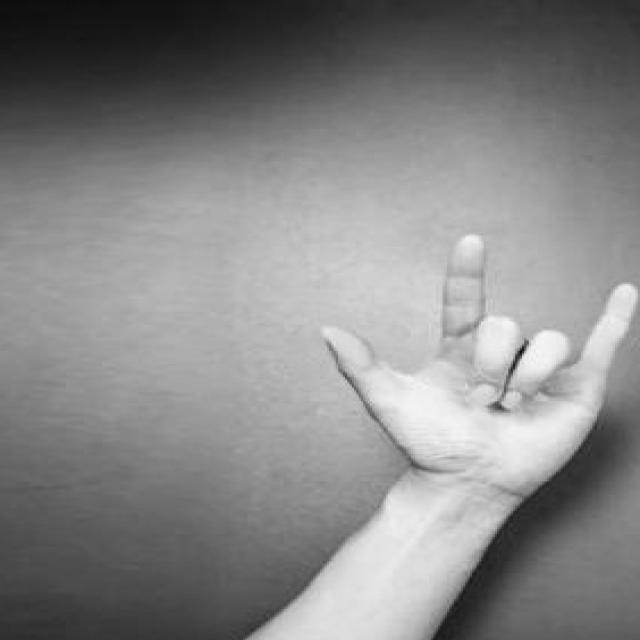i love you: (311, 227, 640, 522)
